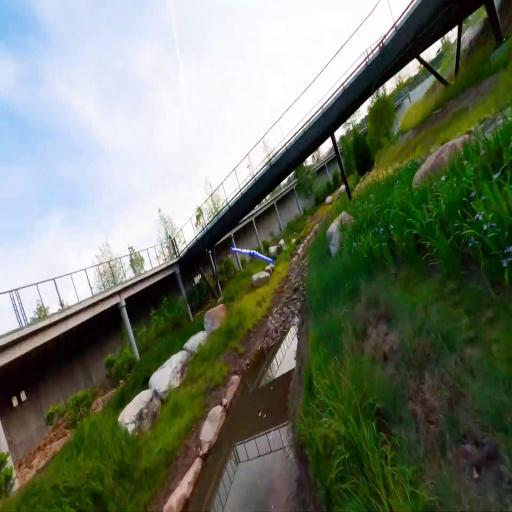uav: (229, 241, 276, 270)
